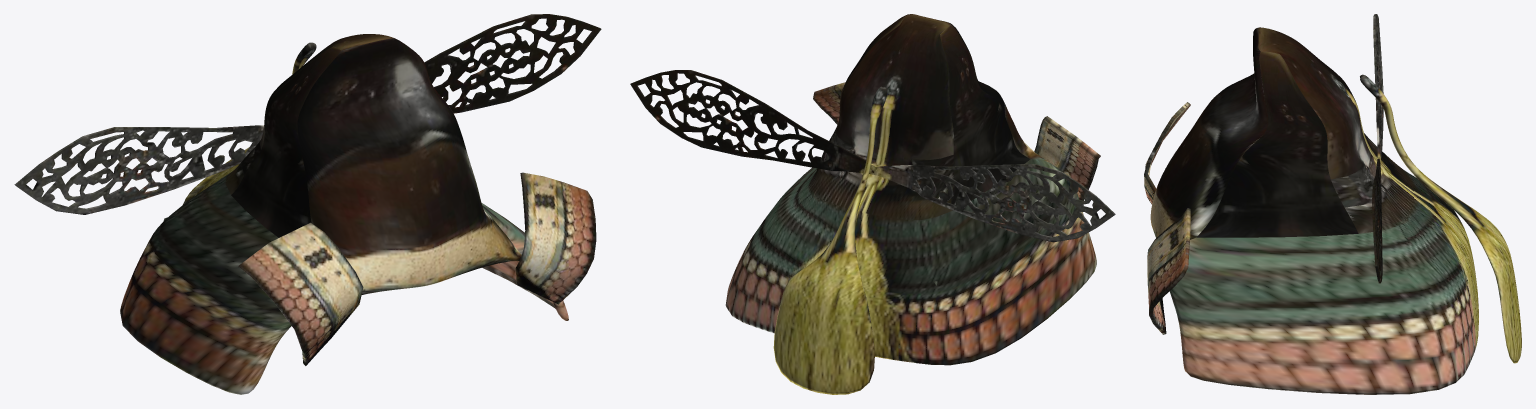
Rendered from armor_head.fbx.
3 renders of one model, left to right at view 1: azimuth 30°, elevation 25°; view 2: azimuth 150°, elevation 25°; view 3: azimuth 270°, elevation 25°, orthographic. The views are drawn at different scales.
Visible parts, largest first — view 1: kabuto_kazari2; view 2: kabuto_kazari2; view 3: kabuto_kazari2.
Part boxes in pixels (<box>): kabuto_kazari2: <box>14,14,601,394</box>; kabuto_kazari2: <box>630,14,1115,394</box>; kabuto_kazari2: <box>1144,14,1521,394</box>.
Bounding box in the file's own units: 86.55 × 48.86 × 52.74.
3 materials, 3 textured.
